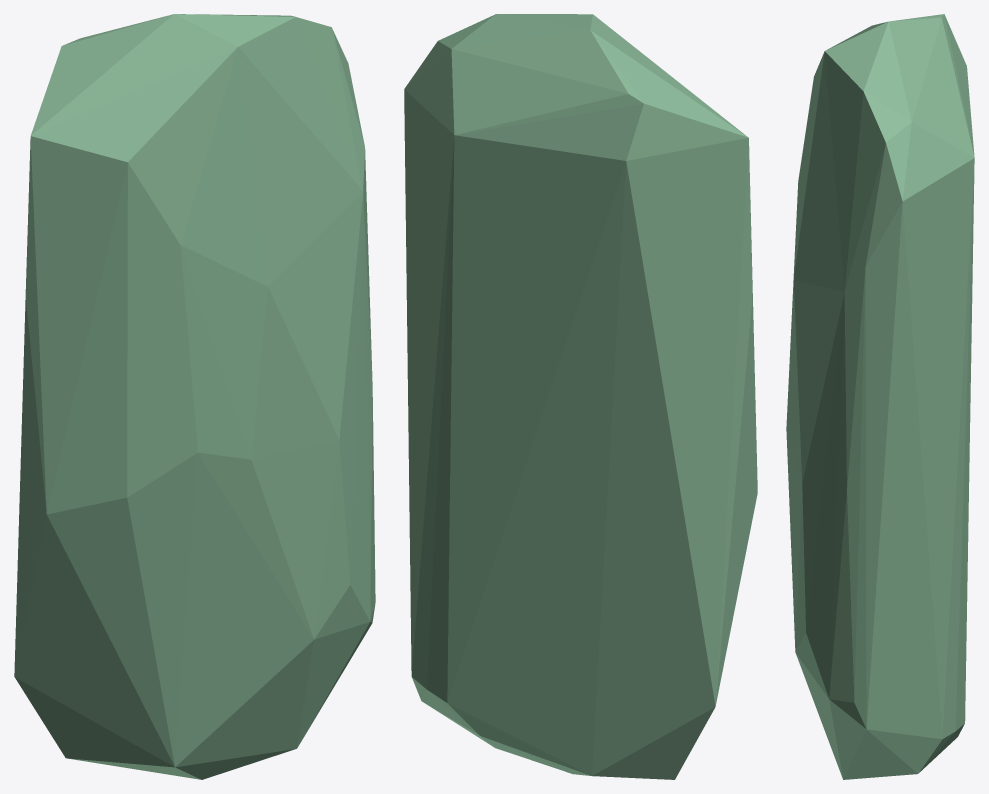
File: cleaning_barSoap_d01.glb
3 views of the same model, side by side, from view 1: azimuth 30°, elevation 25°; view 2: azimuth 150°, elevation 25°; view 3: azimuth 270°, elevation 25° (orthographic). The views are drawn at different scales.
Visible parts, largest first — view 1: geometry_0; view 2: geometry_0; view 3: geometry_0.
Boxes of the visible parts, bbox=[...] form: geometry_0: bbox=[14, 14, 375, 779]; geometry_0: bbox=[404, 14, 757, 779]; geometry_0: bbox=[786, 14, 974, 779].
Bounding box in the file's own units: 0.2254 × 0.4728 × 0.1114.
